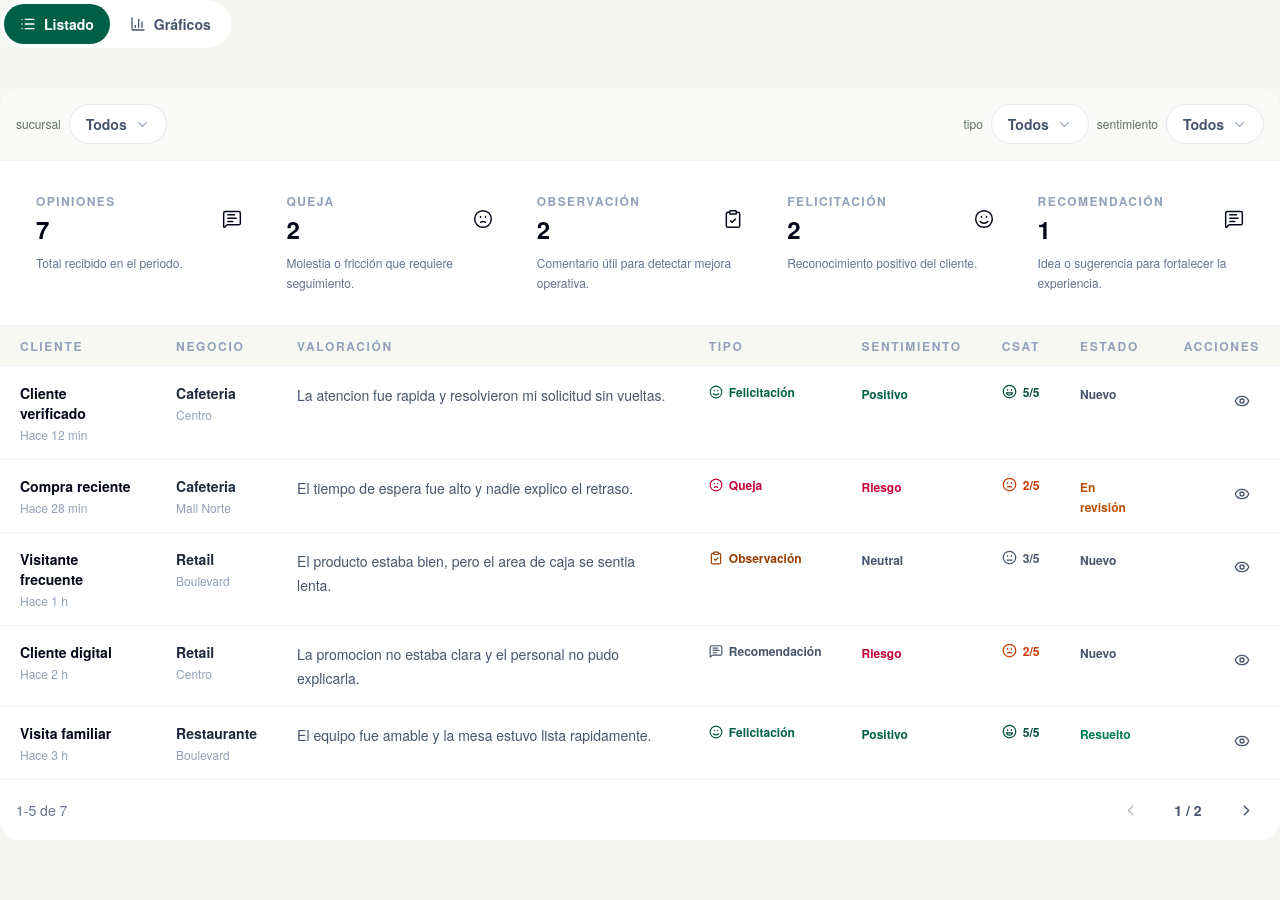
DashboardCommentsTable › renders comments in a paginated reusable table
Expected: the dropdown named "Filtrar por sucursal" is shown, [69,104,167,144]
Expected: the dropdown named "Filtrar por tipo" is shown, [991,104,1089,144]
Click the button named "CSAT 5 de 5, Excelente" at {"x": 1021, "y": 392}, box [1002,384,1040,400]
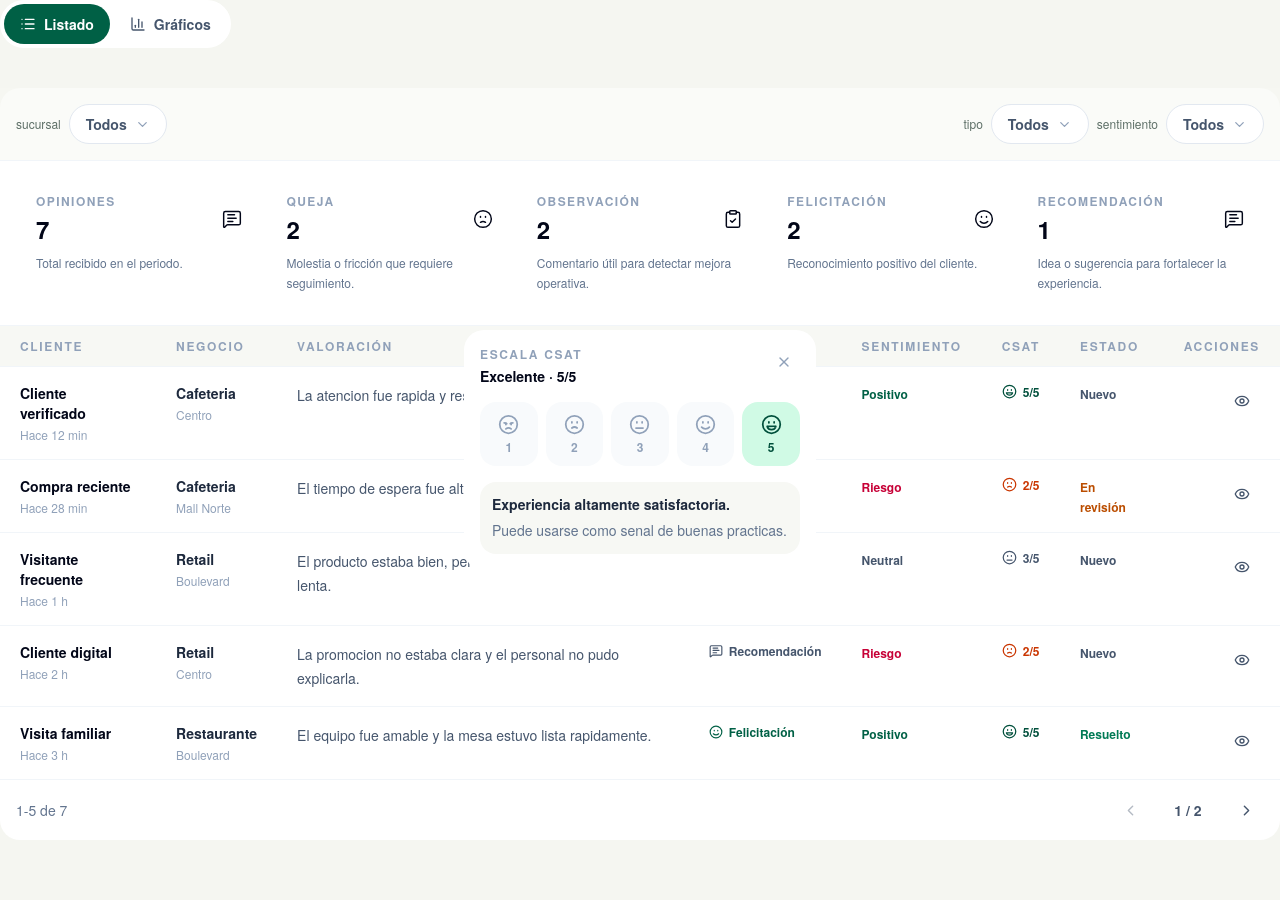
Result: the dialog named "detalle csat 5 de 5" is shown at [464,330,816,570]
Result: the text "Escala CSAT" is shown at [480,346,582,362]
Result: the text "Experiencia altamente satisfactoria." is shown at [492,494,730,514]
Click the button named "Cerrar" at {"x": 784, "y": 362}, box [768,346,800,378]
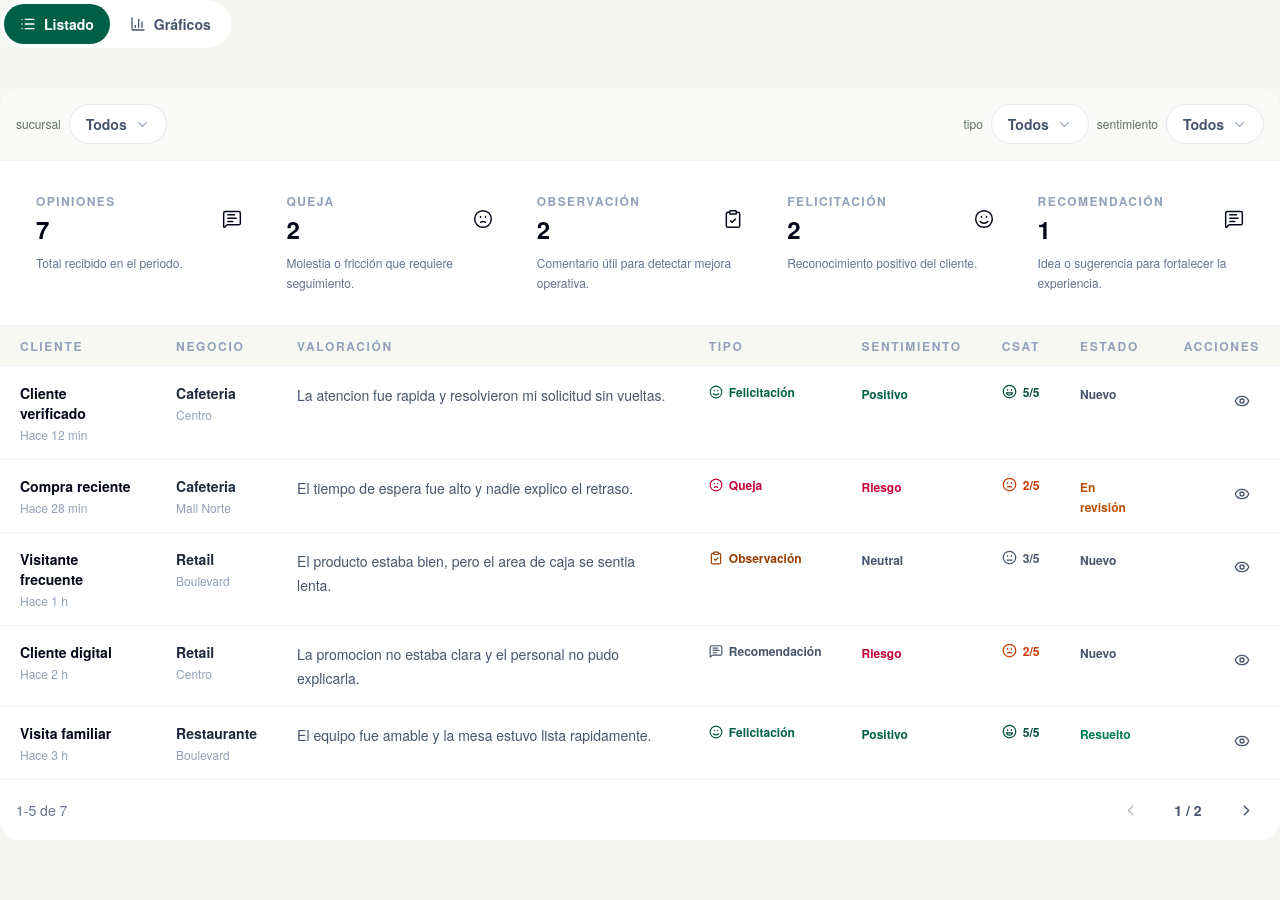
Click the button named "Pagina siguiente" at {"x": 1246, "y": 810}, box [1228,792,1264,828]
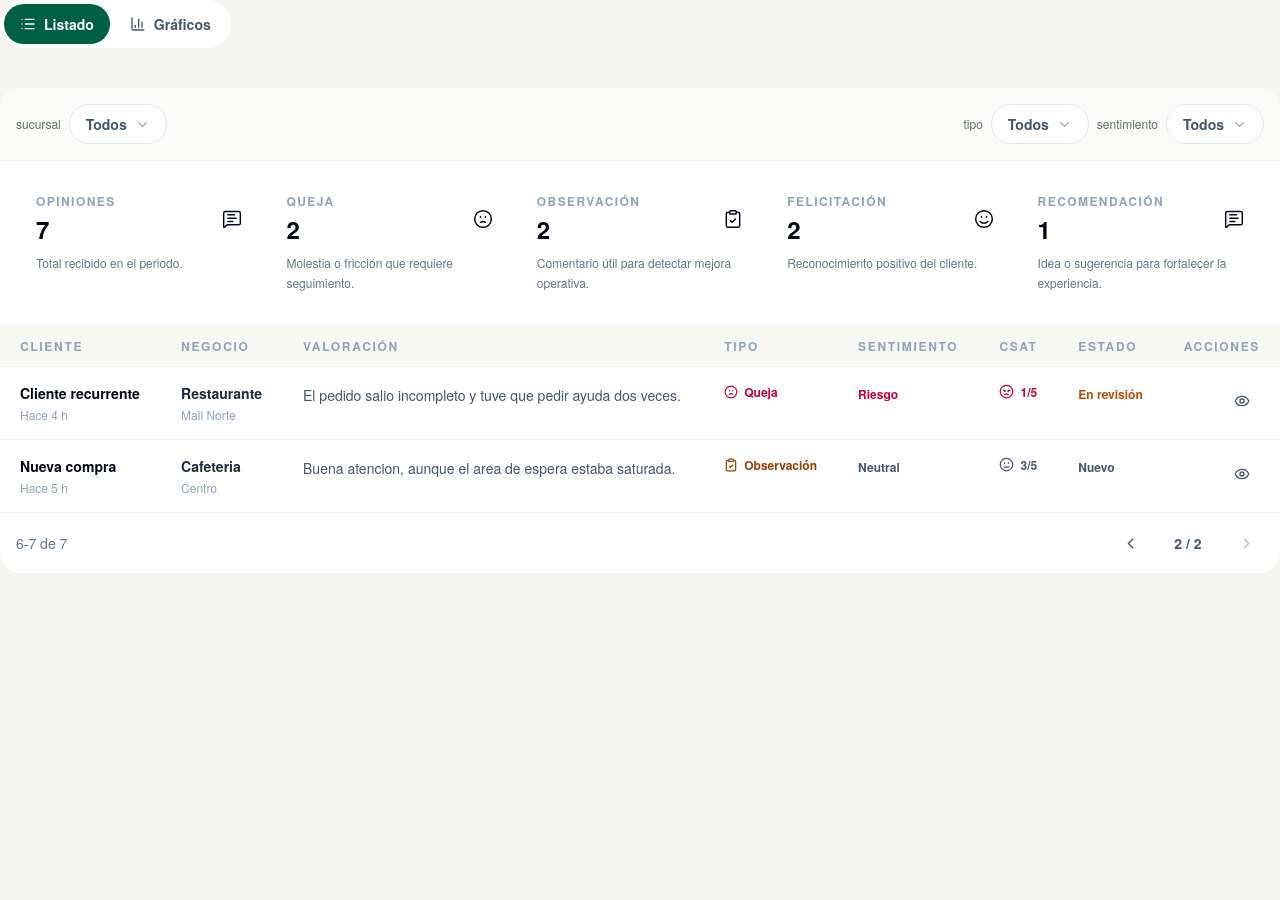
Result: the text "6-7 de 7" is shown at [16,533,67,553]
Result: the text "Cliente recurrente" is shown at [20,383,141,403]
